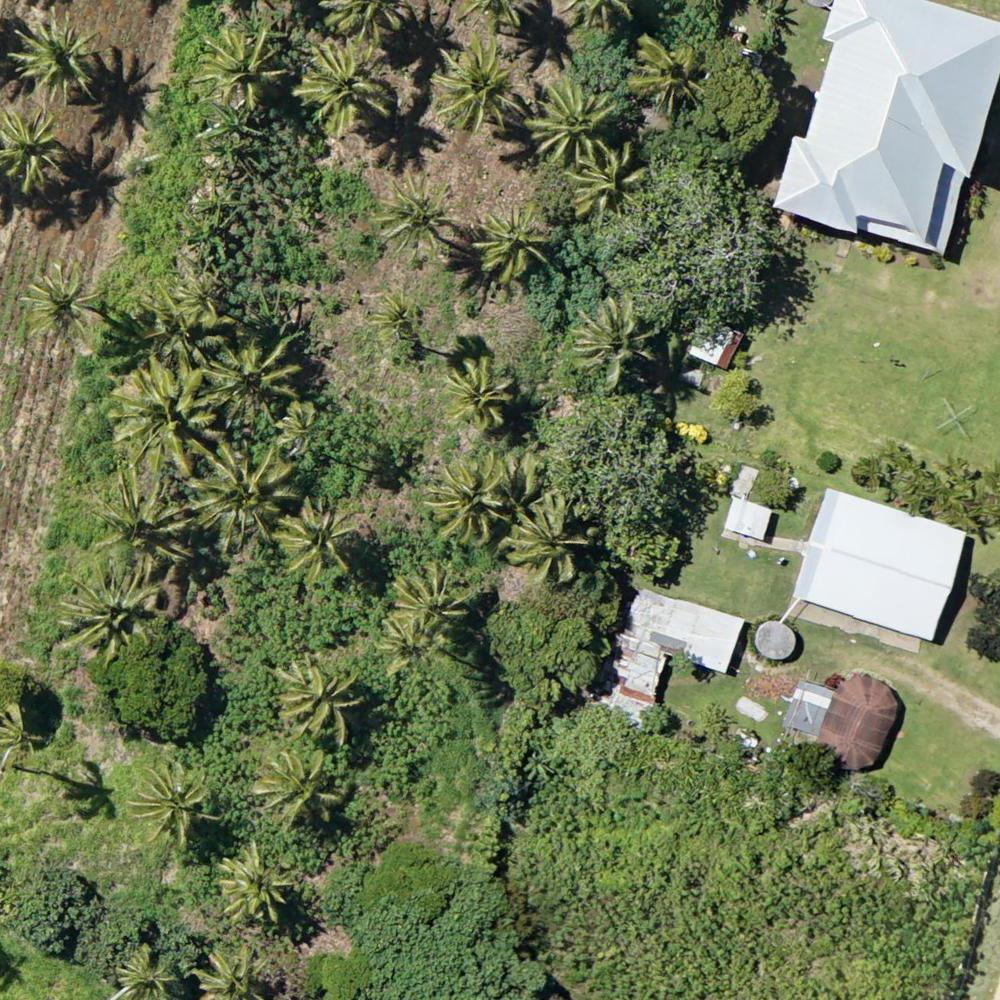Palm: (189, 439, 296, 552), (116, 359, 217, 473), (89, 472, 189, 574), (61, 562, 162, 658), (424, 448, 517, 545), (208, 330, 305, 421), (297, 40, 396, 129), (435, 34, 525, 127), (12, 17, 102, 109), (270, 659, 368, 742), (368, 174, 456, 263), (191, 22, 285, 105), (526, 81, 620, 161), (20, 261, 112, 342), (252, 745, 337, 832), (128, 761, 211, 846), (218, 841, 297, 929), (575, 296, 654, 383), (513, 496, 591, 584), (269, 498, 354, 577), (563, 154, 652, 226), (630, 32, 708, 112), (391, 562, 467, 639), (472, 207, 550, 282), (1, 109, 68, 196), (443, 352, 514, 432), (368, 618, 441, 674), (167, 273, 224, 330), (366, 290, 421, 339)
